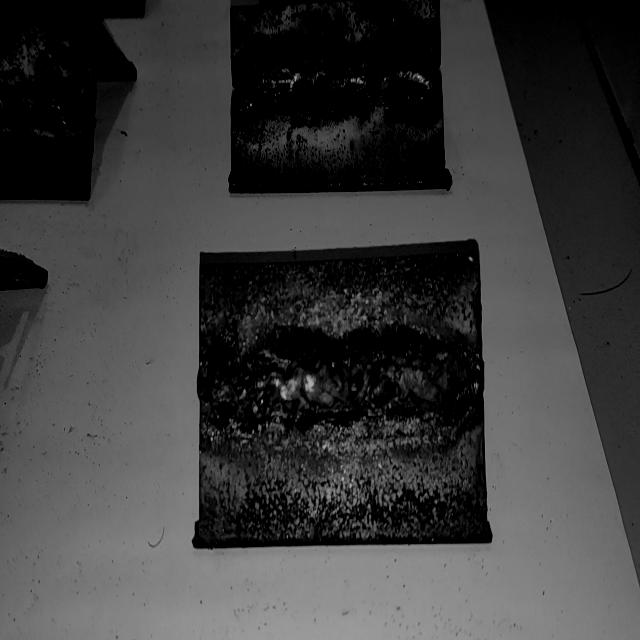Bad Weld: (202, 348, 482, 429), (235, 52, 440, 107), (0, 87, 90, 131)
Defect: (200, 356, 294, 432), (271, 42, 345, 110), (3, 88, 92, 135), (353, 42, 407, 114)
